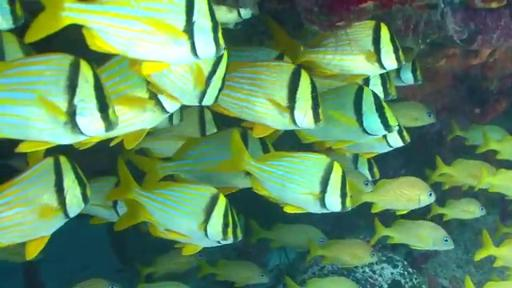Fish: (24, 0, 225, 63), (108, 159, 241, 254), (0, 53, 117, 151), (75, 56, 180, 149), (0, 156, 89, 259), (212, 61, 322, 137), (266, 18, 404, 77), (246, 152, 353, 213), (127, 129, 247, 183), (296, 84, 399, 144), (133, 52, 227, 106), (136, 107, 219, 158), (352, 176, 435, 214), (316, 126, 410, 158), (371, 218, 454, 250), (148, 224, 225, 257), (248, 220, 328, 250), (82, 176, 126, 223), (153, 107, 219, 138), (430, 156, 496, 187), (136, 249, 198, 281), (307, 239, 377, 267), (198, 260, 269, 287), (321, 149, 379, 180), (175, 172, 251, 195), (448, 121, 508, 145), (475, 230, 511, 267), (429, 198, 486, 221), (388, 101, 435, 127), (356, 73, 396, 100), (475, 169, 511, 198), (360, 73, 397, 101), (0, 32, 35, 61), (213, 4, 253, 28), (476, 132, 511, 159), (228, 47, 291, 62), (388, 59, 422, 86), (426, 170, 469, 190), (342, 166, 374, 192), (285, 276, 359, 287), (152, 106, 185, 129), (0, 0, 24, 31), (0, 244, 27, 263), (73, 279, 121, 287), (465, 0, 507, 8), (137, 281, 189, 287), (496, 220, 511, 238), (483, 280, 511, 287)
